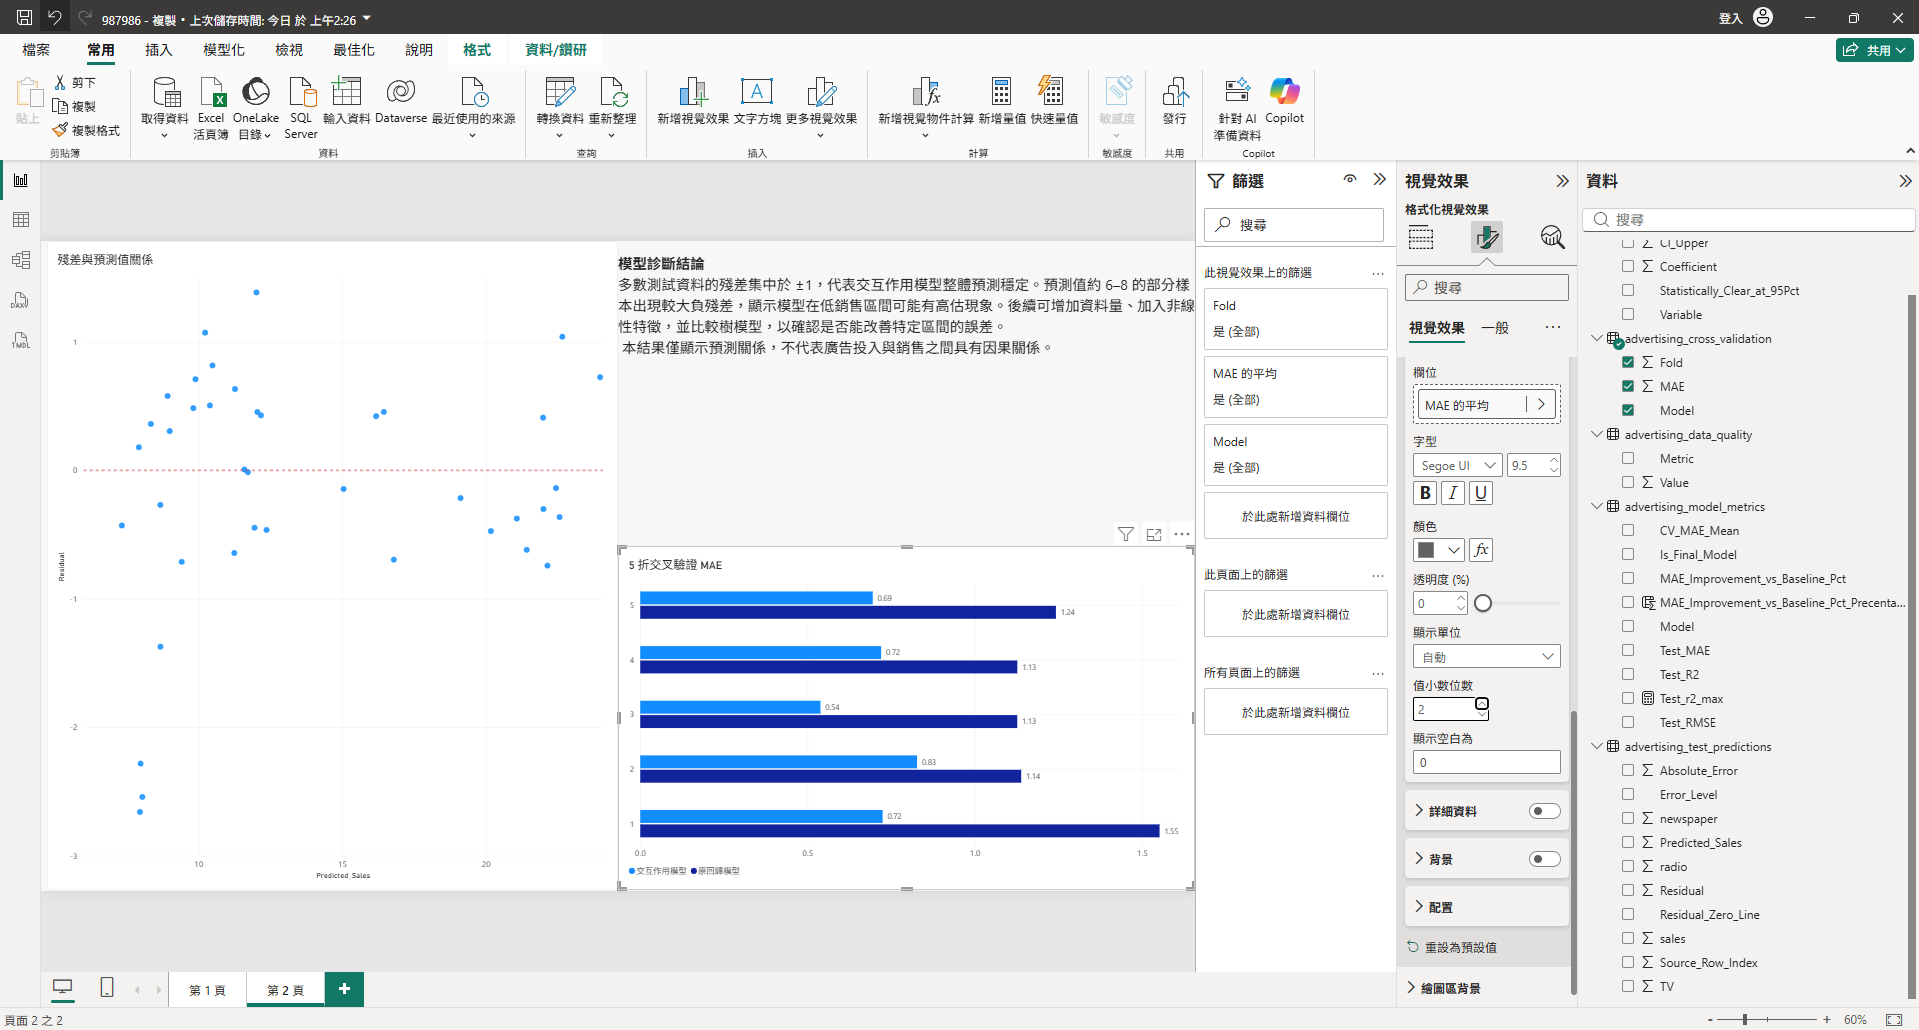

This screenshot's page, from the dashboard's own definition file:
{"tool":"powerbi","page":{"name":"模型診斷","canvas":[1920,1080],"ordinal":1},"visuals":[{"type":"scatterChart","title":"殘差與預測值關係","fields":{"X":["advertising_test_predictions.Predicted_Sales"],"Y":["advertising_test_predictions.Residual"]},"box":[10,0,950,1079.8],"z":0},{"type":"textbox","box":[960,0,960,321.1],"z":1},{"type":"clusteredBarChart","title":"5 折交叉驗證 MAE","fields":{"Category":["advertising_cross_validation.Fold"],"Series":["advertising_cross_validation.Model"],"Y":["Avg(advertising_cross_validation.MAE)"]},"box":[960,321.1,960,572.3],"z":2},{"type":"textbox","box":[960,893,960,187],"z":3}]}

Visuals, with their boxes on the page's 1920x1080 design canvas (x1, y1, x2, y2). These are canvas units, not pixel positions in the 1919x1030 screenshot, which may show the page scaled, cropped or inside an application window:
"殘差與預測值關係" scatterChart: (left=10, top=0, right=960, bottom=1080)
textbox: (left=960, top=0, right=1920, bottom=321)
"5 折交叉驗證 MAE" clusteredBarChart: (left=960, top=321, right=1920, bottom=893)
textbox: (left=960, top=893, right=1920, bottom=1080)
